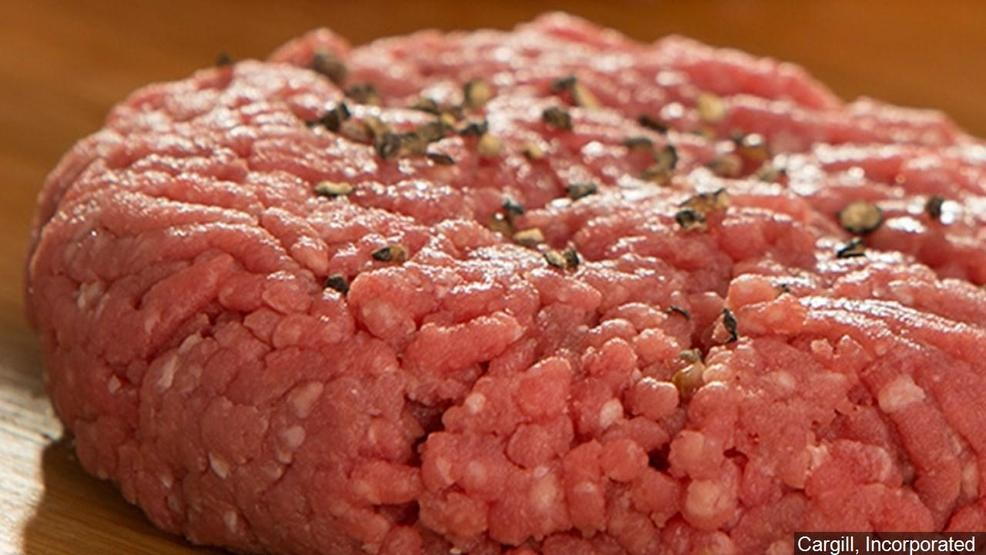ground_beef: (49, 37, 922, 555)
